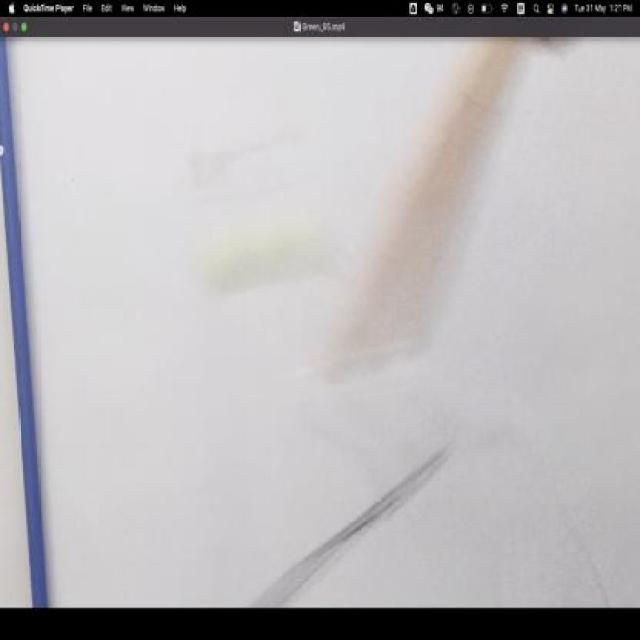baseball: (207, 216, 328, 295)
